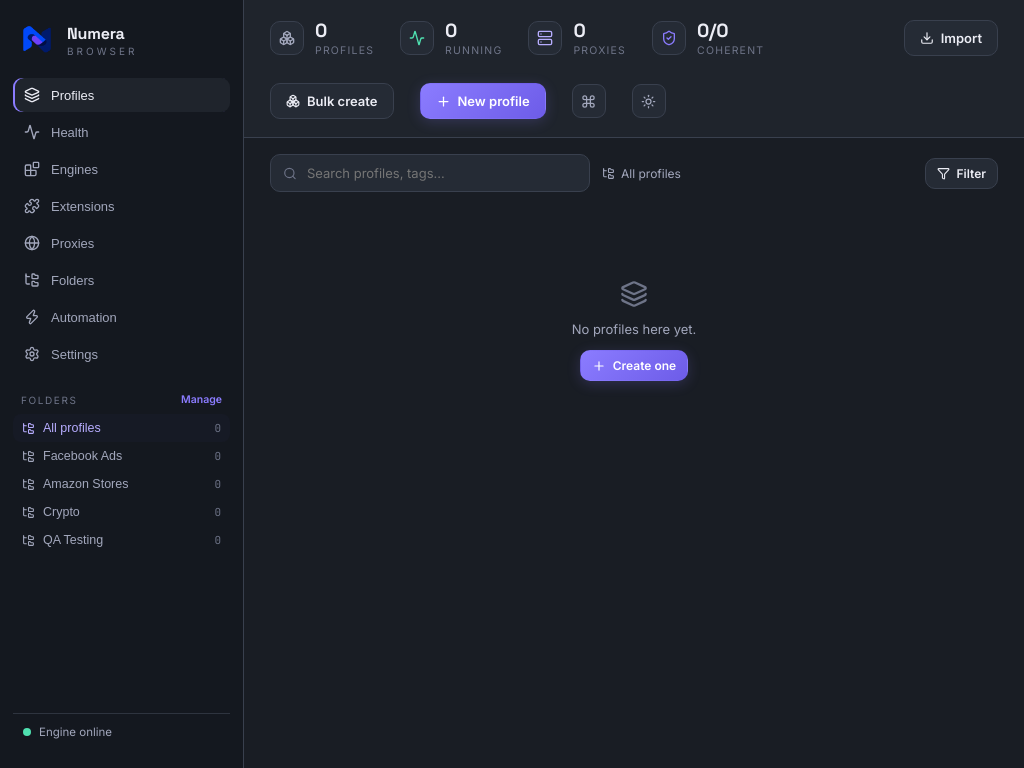
Test: the command palette can reach every section the sidebar can
Expected: the text "Engine online" is shown, [39, 725, 112, 739]
Click the button titled "Command palette": (589,101) [572, 84, 606, 118]
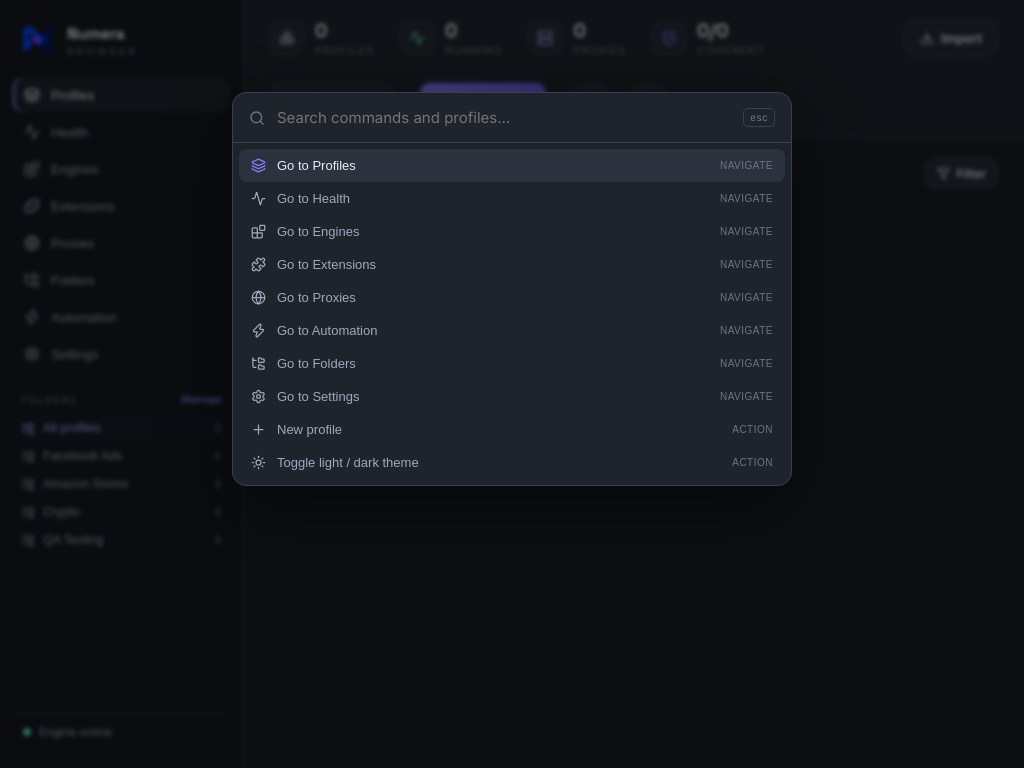
Expected: the field with placeholder "Search commands and profiles…" is shown, [275, 107, 733, 128]
